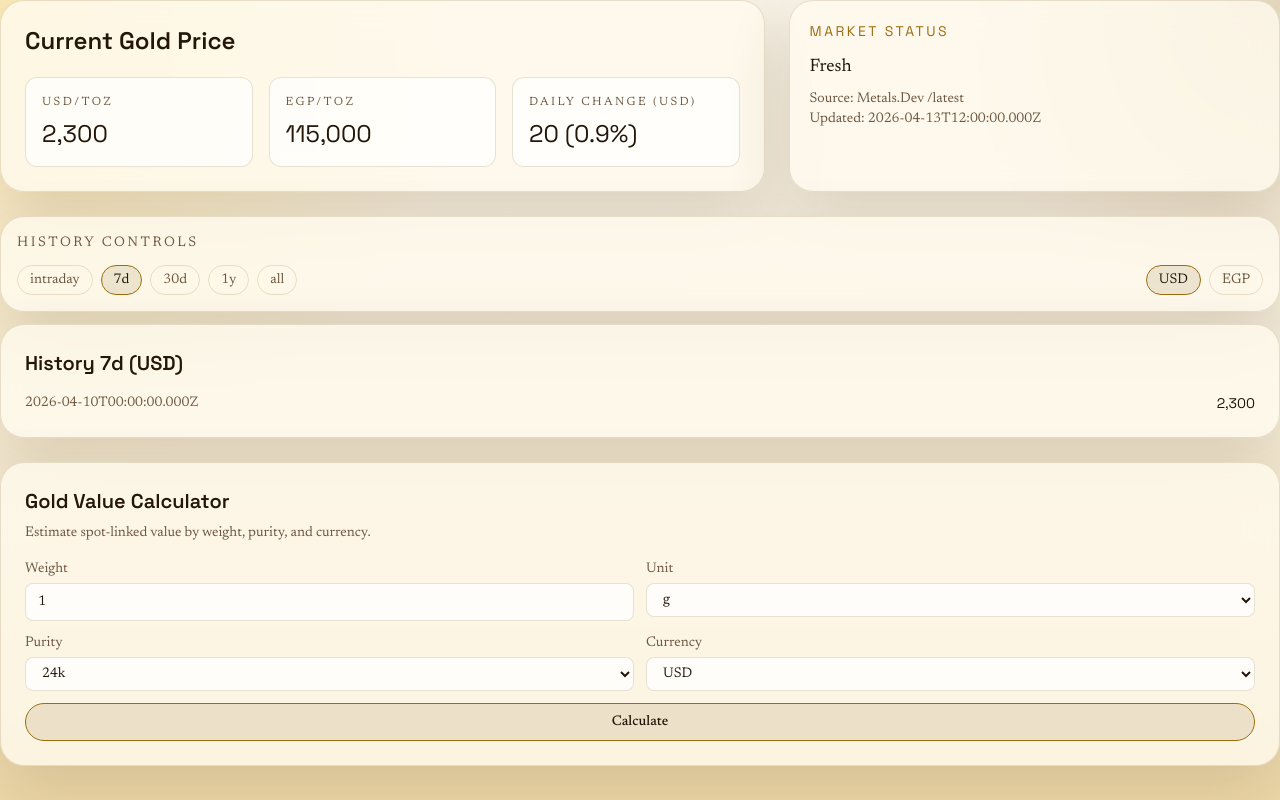
Test case: conversion calculator interactions › submits valid input and renders result, then handles invalid input
Check: the heading "Current Gold Price" is shown, box [25, 25, 236, 56]
Replace the text in the number field labelled "Weight" with "10" at (330,602), box [25, 583, 634, 621]
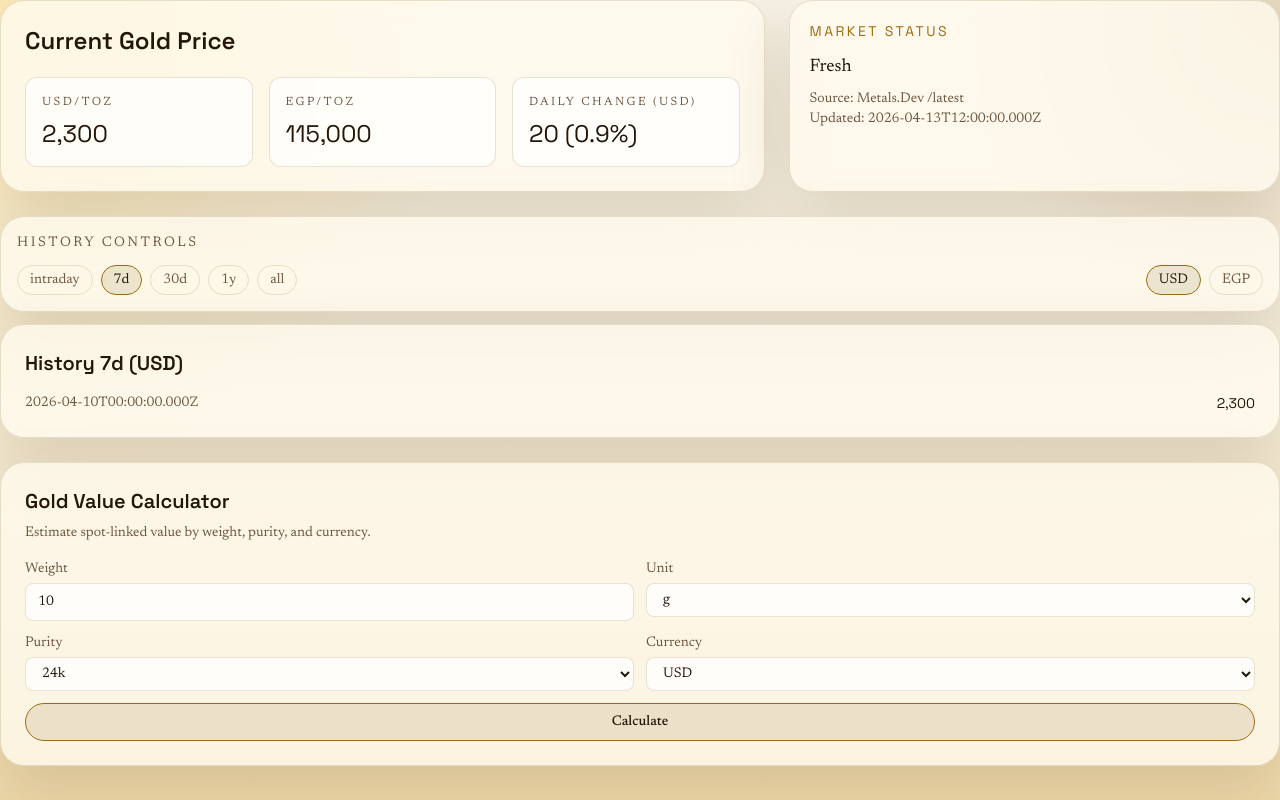
Select "g" in the dropdown labelled "Unit" at (950,600), box [646, 583, 1255, 617]
Select "21k" in the dropdown labelled "Purity" at (330,674), box [25, 657, 634, 691]
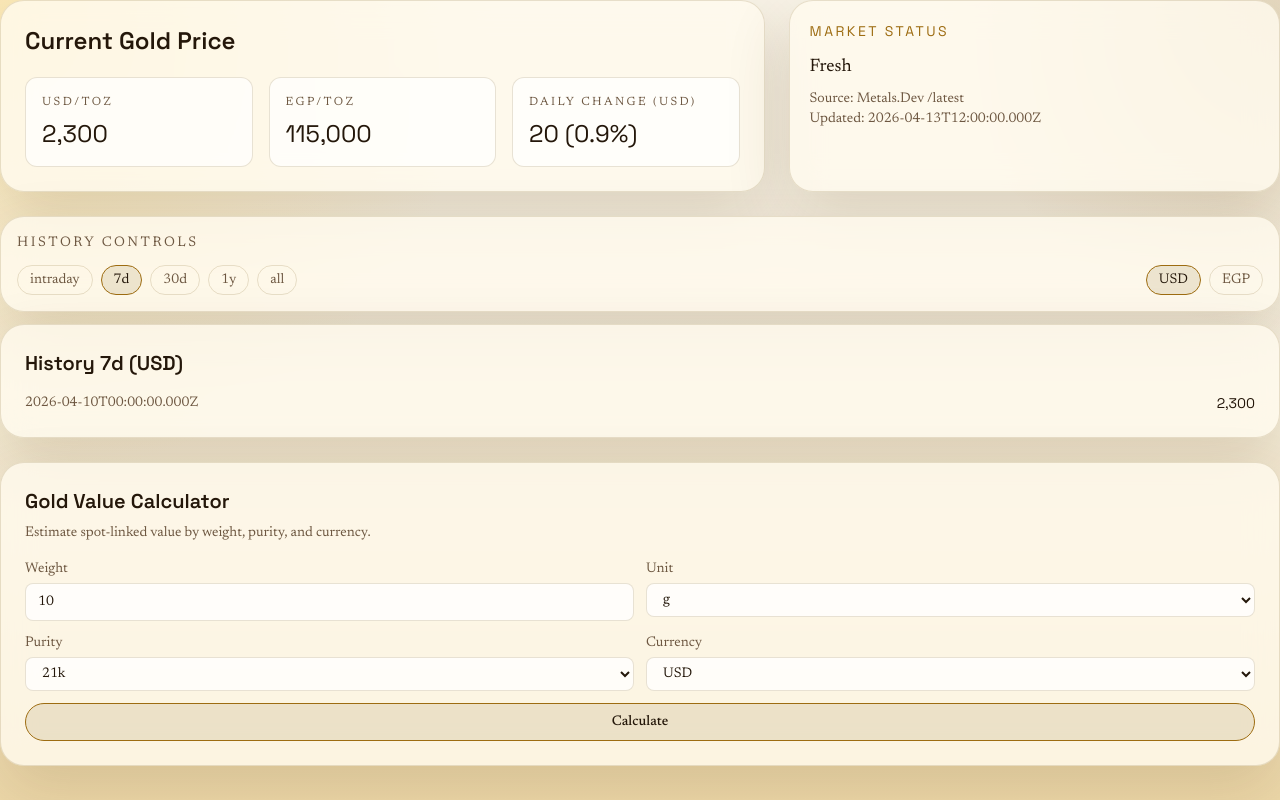
Select "USD" in the dropdown labelled "Currency" at (950,674), box [646, 657, 1255, 691]
Click the button "Calculate" at (640,722), box [25, 703, 1255, 741]
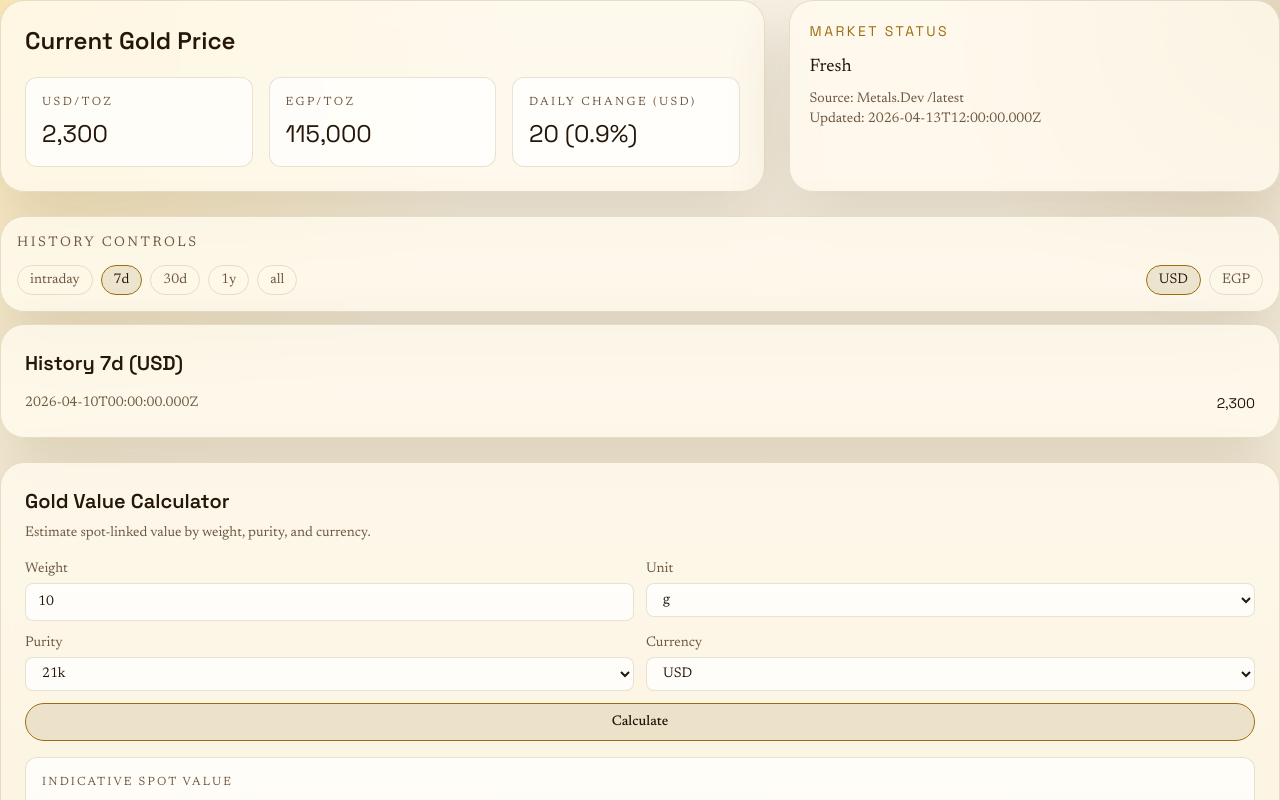
Check: the text "Indicative Spot Value" is shown, box [42, 776, 233, 788]
Replace the text in the number field labelled "Weight" with "-1" at (330,602), box [25, 583, 634, 621]
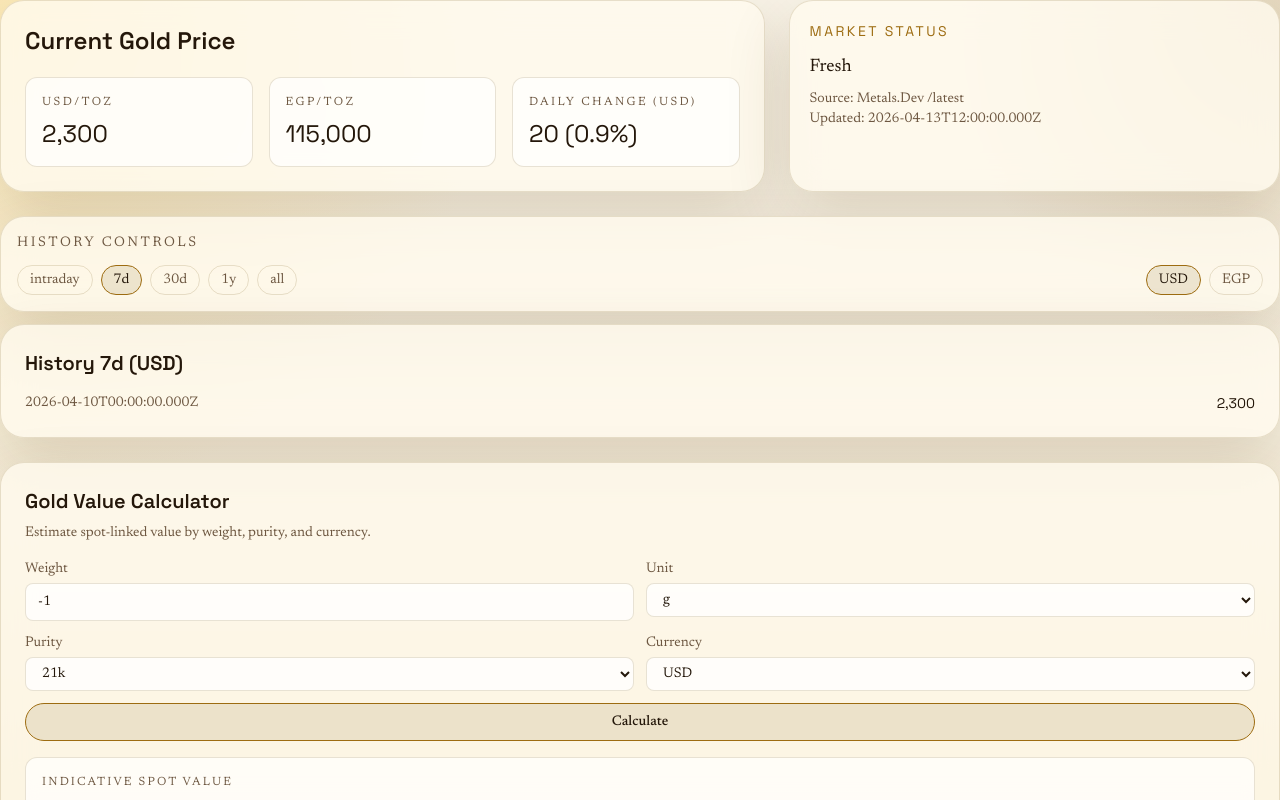
Click the button "Calculate" at (640,722), box [25, 703, 1255, 741]
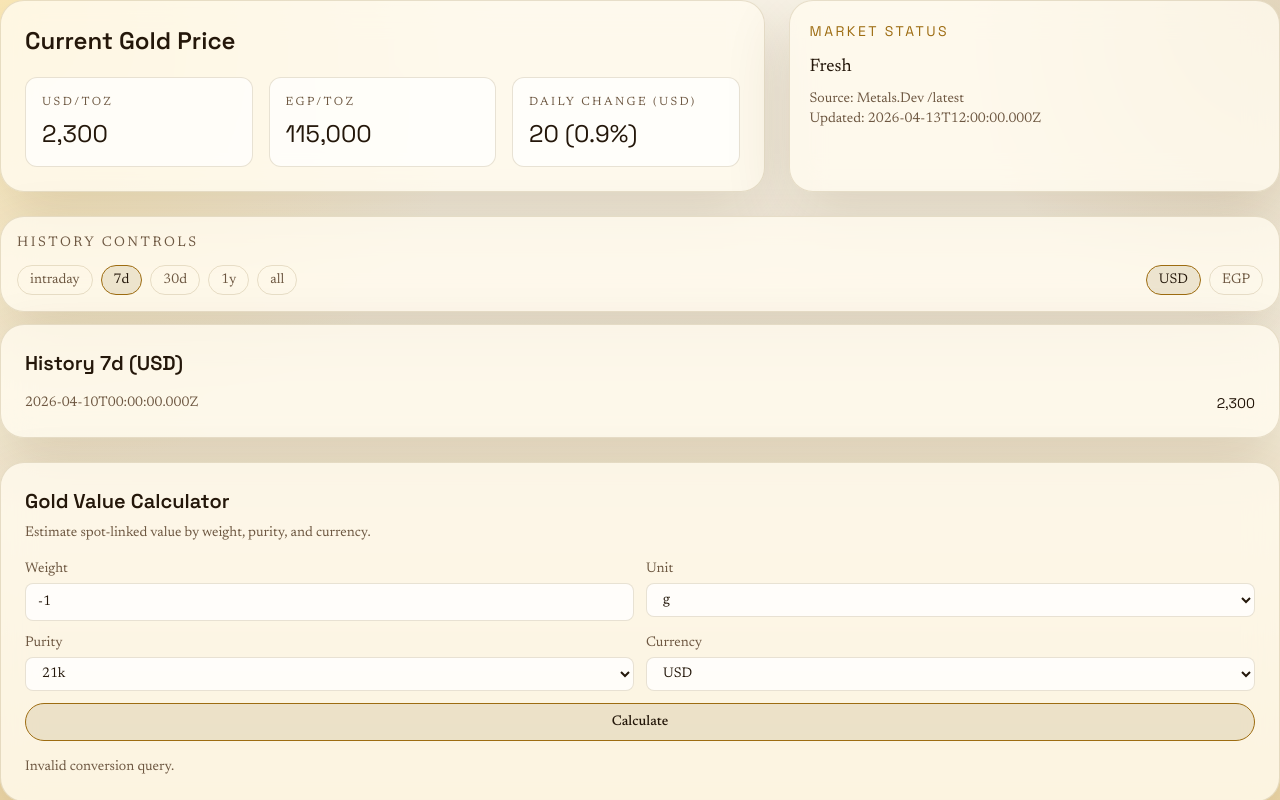
Check: the text "Invalid conversion query." is shown, box [25, 760, 174, 774]
